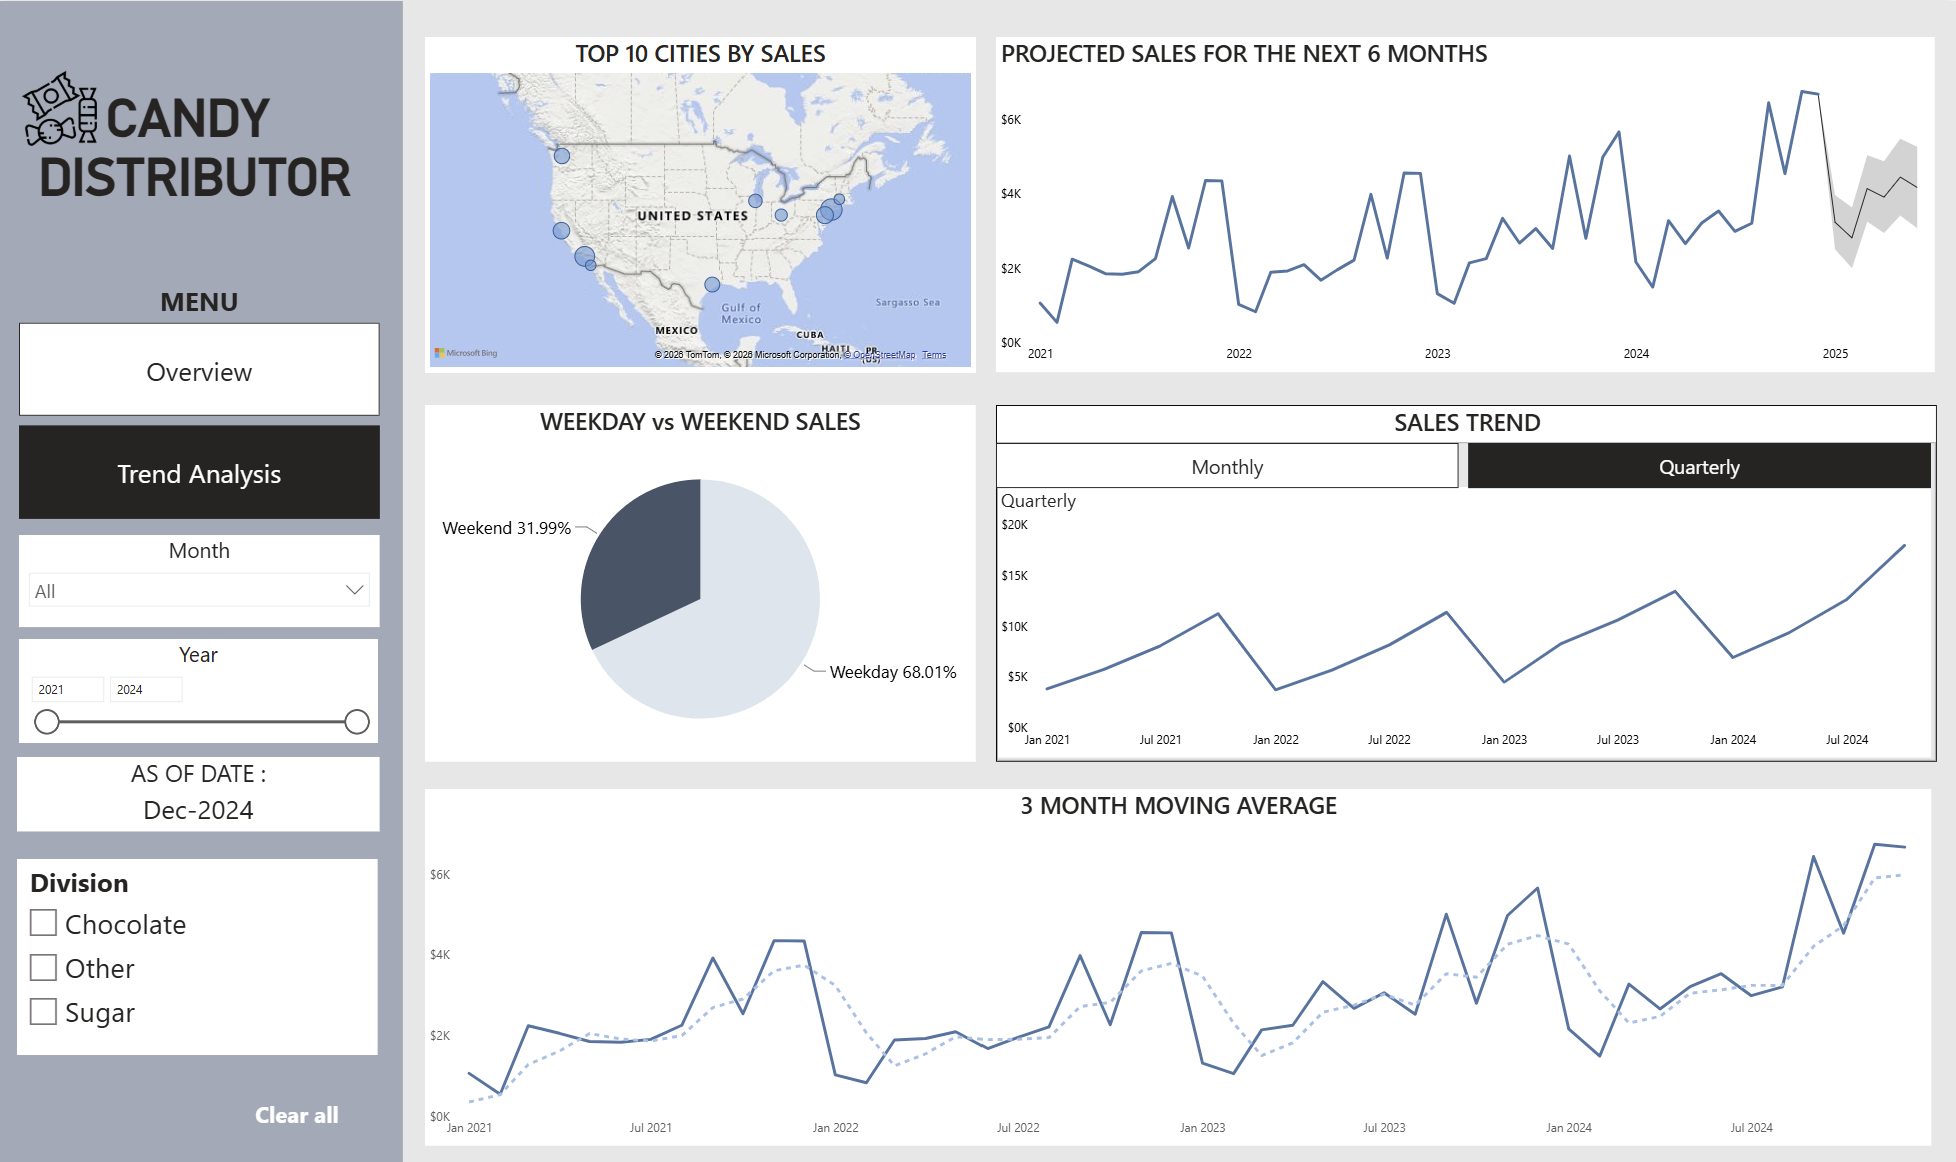

Layout of this report page (visuals, bound fields, positions):
{"tool":"powerbi","page":{"name":"Trend Analysis","canvas":[2000,1185],"ordinal":1},"visuals":[{"type":"pieChart","title":"WEEKDAY vs WEEKEND SALES ","fields":{"Category":["Calendar.Weekend/Weekday"],"Y":["Candy_Sales.Total Sales"]},"box":[438,412,562,364],"z":0},{"type":"lineChart","title":"PROJECTED SALES FOR THE NEXT 6 MONTHS ","fields":{"Y":["Candy_Sales.Total Sales"],"Category":["Calendar.Start of the month.Variation.Date Hierarchy.Year","Calendar.Start of the month.Variation.Date Hierarchy.Quarter","Calendar.Start of the month.Variation.Date Hierarchy.Month","Calendar.Start of the month.Variation.Date Hierarchy.Day"]},"box":[1020,36,958,342],"z":1000},{"type":"lineChart","title":"Quarterly ","fields":{"Y":["Candy_Sales.Total Sales"],"Category":["Calendar.Start of qtr"]},"box":[1020,496,954,276],"z":3000},{"type":"shape","title":"SALES TREND","box":[1020,412,960,364],"z":4000},{"type":"bookmarkNavigator","box":[1020,450,954,46],"z":5000},{"type":"shape","box":[0,0,416,1186],"z":6000},{"type":"pageNavigator","title":"MENU","box":[24,288,368,242],"z":7000},{"type":"slicer","fields":{"Values":["Candy_Targets.Division"]},"box":[22,876,368,200],"z":8000},{"type":"actionButton","box":[207.7,1103.8,200,63.5],"z":9000},{"type":"card","title":"AS OF DATE :","fields":{"Values":["Calendar.As of Date"]},"box":[22,772,370,76],"z":10000},{"type":"slicer","title":"Year","fields":{"Values":["Calendar.Date.Variation.Date Hierarchy.Year"]},"box":[24,652,366,106],"z":11000},{"type":"slicer","title":"Month","fields":{"Values":["Calendar.Date.Variation.Date Hierarchy.Month"]},"box":[24,544,368,94],"z":12000},{"type":"textbox","box":[21.2,84.6,367.3,148.1],"z":13000},{"type":"image","box":[23.1,63.5,86.5,92.3],"z":14000},{"type":"azureMap","title":"TOP 10 CITIES BY SALES","fields":{"Category":["Candy_Sales.City"],"Size":["Candy_Sales.Total Sales"]},"box":[438,36,562,342],"z":15000},{"type":"lineChart","title":"3 MONTH MOVING AVERAGE ","fields":{"Category":["Calendar.Start of the month"],"Y":["Candy_Sales.Total Sales","Candy_Sales.3 month moving avg"]},"box":[438,804,1536,364],"z":16000}]}

Visuals, with their boxes in screenshot pixels (x1, y1, x2, y2), scaled from the page's 2000x1185 canvas onto the 1956x1162 screenshot:
"WEEKDAY vs WEEKEND SALES " pieChart: 428, 404, 978, 761
"PROJECTED SALES FOR THE NEXT 6 MONTHS " lineChart: 998, 35, 1934, 371
"Quarterly " lineChart: 998, 486, 1931, 757
"SALES TREND" shape: 998, 404, 1936, 761
bookmarkNavigator: 998, 441, 1931, 486
shape: 0, 0, 407, 1161
"MENU" pageNavigator: 23, 282, 383, 520
slicer - Candy_Targets.Division: 22, 859, 381, 1055
actionButton: 203, 1082, 399, 1145
"AS OF DATE :" card: 22, 757, 383, 832
"Year" slicer: 23, 639, 381, 743
"Month" slicer: 23, 533, 383, 626
textbox: 21, 83, 380, 228
image: 23, 62, 107, 153
"TOP 10 CITIES BY SALES" azureMap: 428, 35, 978, 371
"3 MONTH MOVING AVERAGE " lineChart: 428, 788, 1931, 1145
